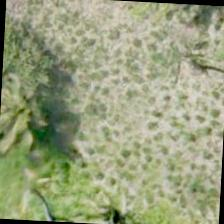Kelapa_Sawit: (141, 11, 223, 106), (0, 70, 58, 164)
